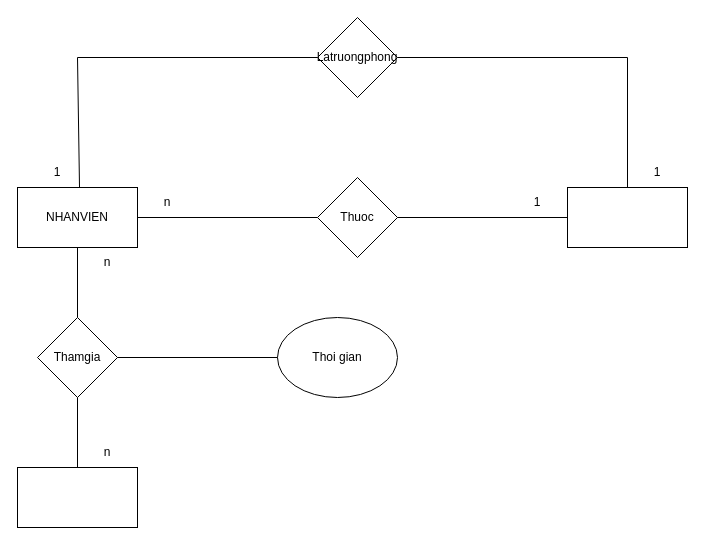
Image size: 705x545. Some labels were removed from this diagram. Each missing label, with the centre of its shape:
DUAN: (x=77, y=497)
PHONGBAN: (x=627, y=217)
